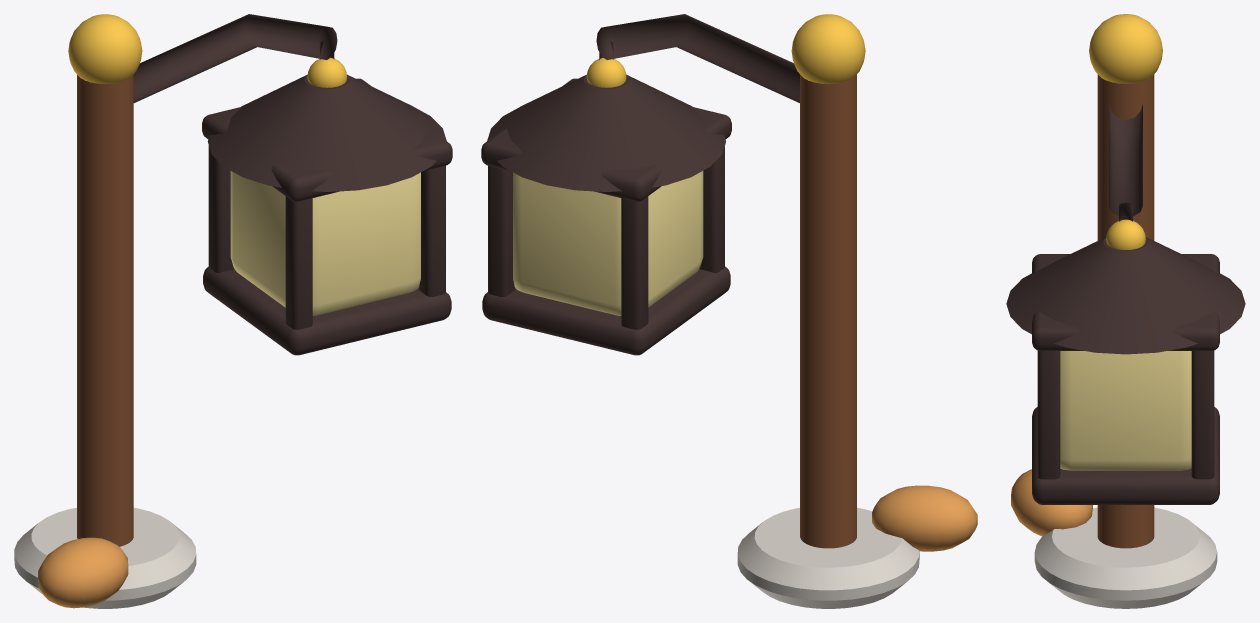
File: lantern.fbx
3 views of the same model, side by side, from view 1: azimuth 30°, elevation 25°; view 2: azimuth 150°, elevation 25°; view 3: azimuth 270°, elevation 25° (orthographic).
Parts seen in each view (by area): view 1: lantern_Dark, lantern_WoodDark, lantern_Glow, lantern_Stone, lantern_Gold, lantern_Crust; view 2: lantern_Dark, lantern_WoodDark, lantern_Glow, lantern_Stone, lantern_Crust, lantern_Gold; view 3: lantern_Dark, lantern_Glow, lantern_Stone, lantern_WoodDark, lantern_Gold, lantern_Crust.
Part boxes in pixels (x1,y1,x2,y2): lantern_Dark: (133, 14, 452, 355); lantern_WoodDark: (77, 75, 133, 546); lantern_Glow: (230, 171, 420, 315); lantern_Stone: (14, 507, 196, 608); lantern_Gold: (68, 14, 347, 87); lantern_Crust: (38, 537, 128, 608); lantern_Dark: (481, 14, 799, 355); lantern_WoodDark: (800, 74, 856, 548); lantern_Glow: (513, 171, 703, 315); lantern_Stone: (737, 507, 919, 608); lantern_Crust: (872, 485, 977, 551); lantern_Gold: (586, 14, 865, 87); lantern_Dark: (1006, 104, 1245, 504); lantern_Glow: (1060, 351, 1191, 470); lantern_Stone: (1034, 507, 1217, 608); lantern_WoodDark: (1097, 74, 1154, 548); lantern_Gold: (1089, 14, 1162, 249); lantern_Crust: (1011, 469, 1092, 536).
Bounding box in the file's own units: 17.41 × 21.7 × 8.4.
